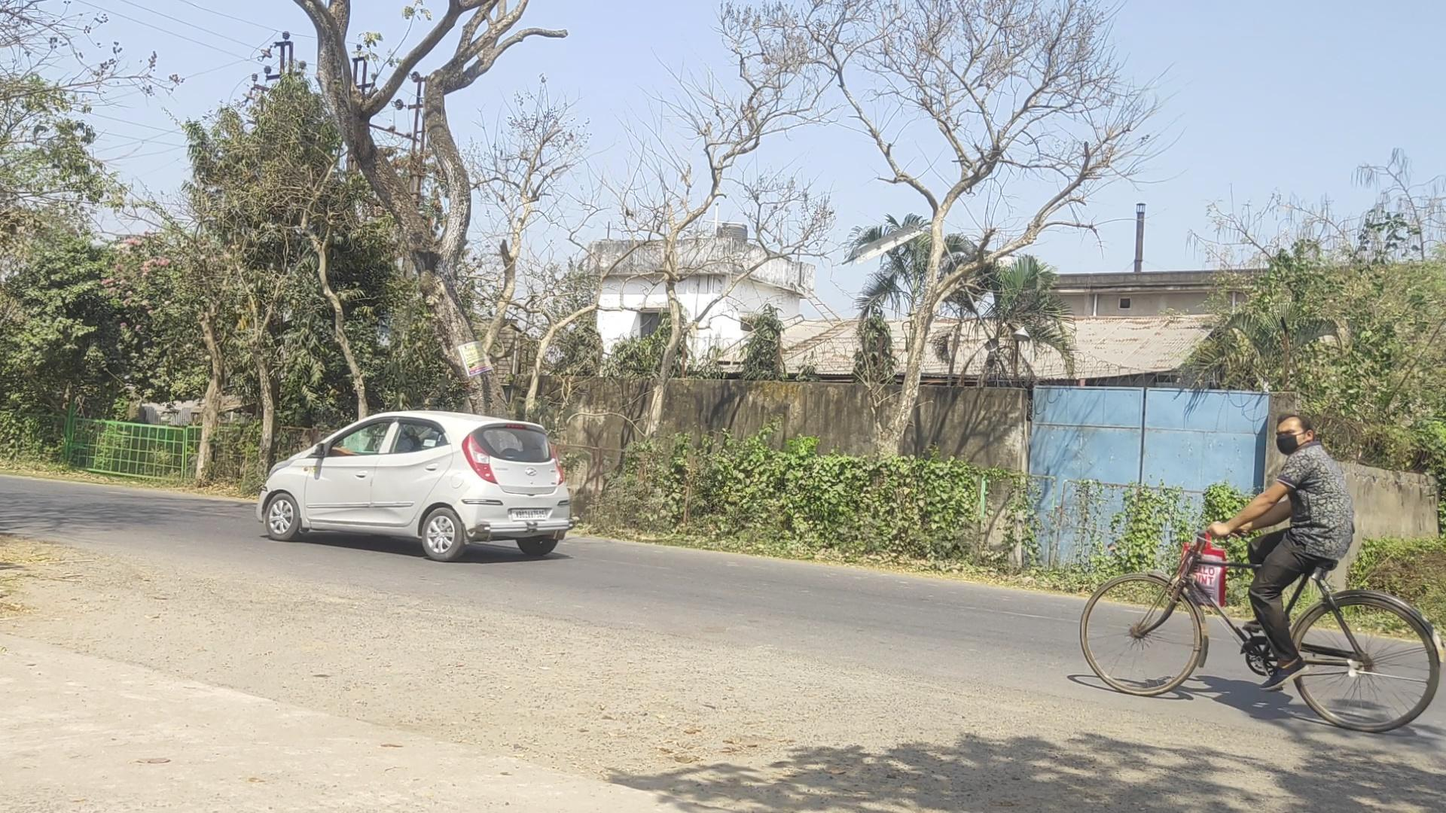bike: (1079, 413, 1446, 732)
car: (255, 410, 572, 562)
